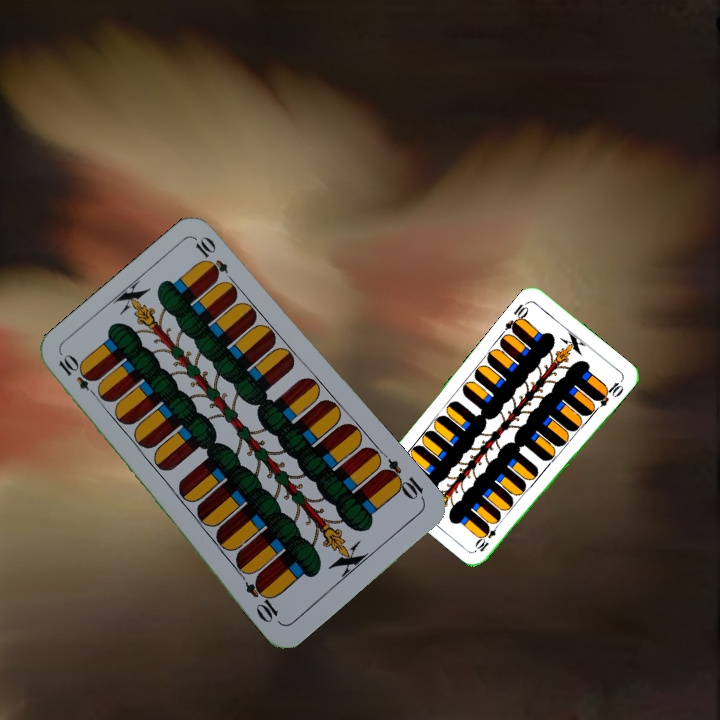E10: (377, 455, 427, 504), (54, 351, 102, 401), (501, 298, 531, 336), (472, 518, 503, 554)
